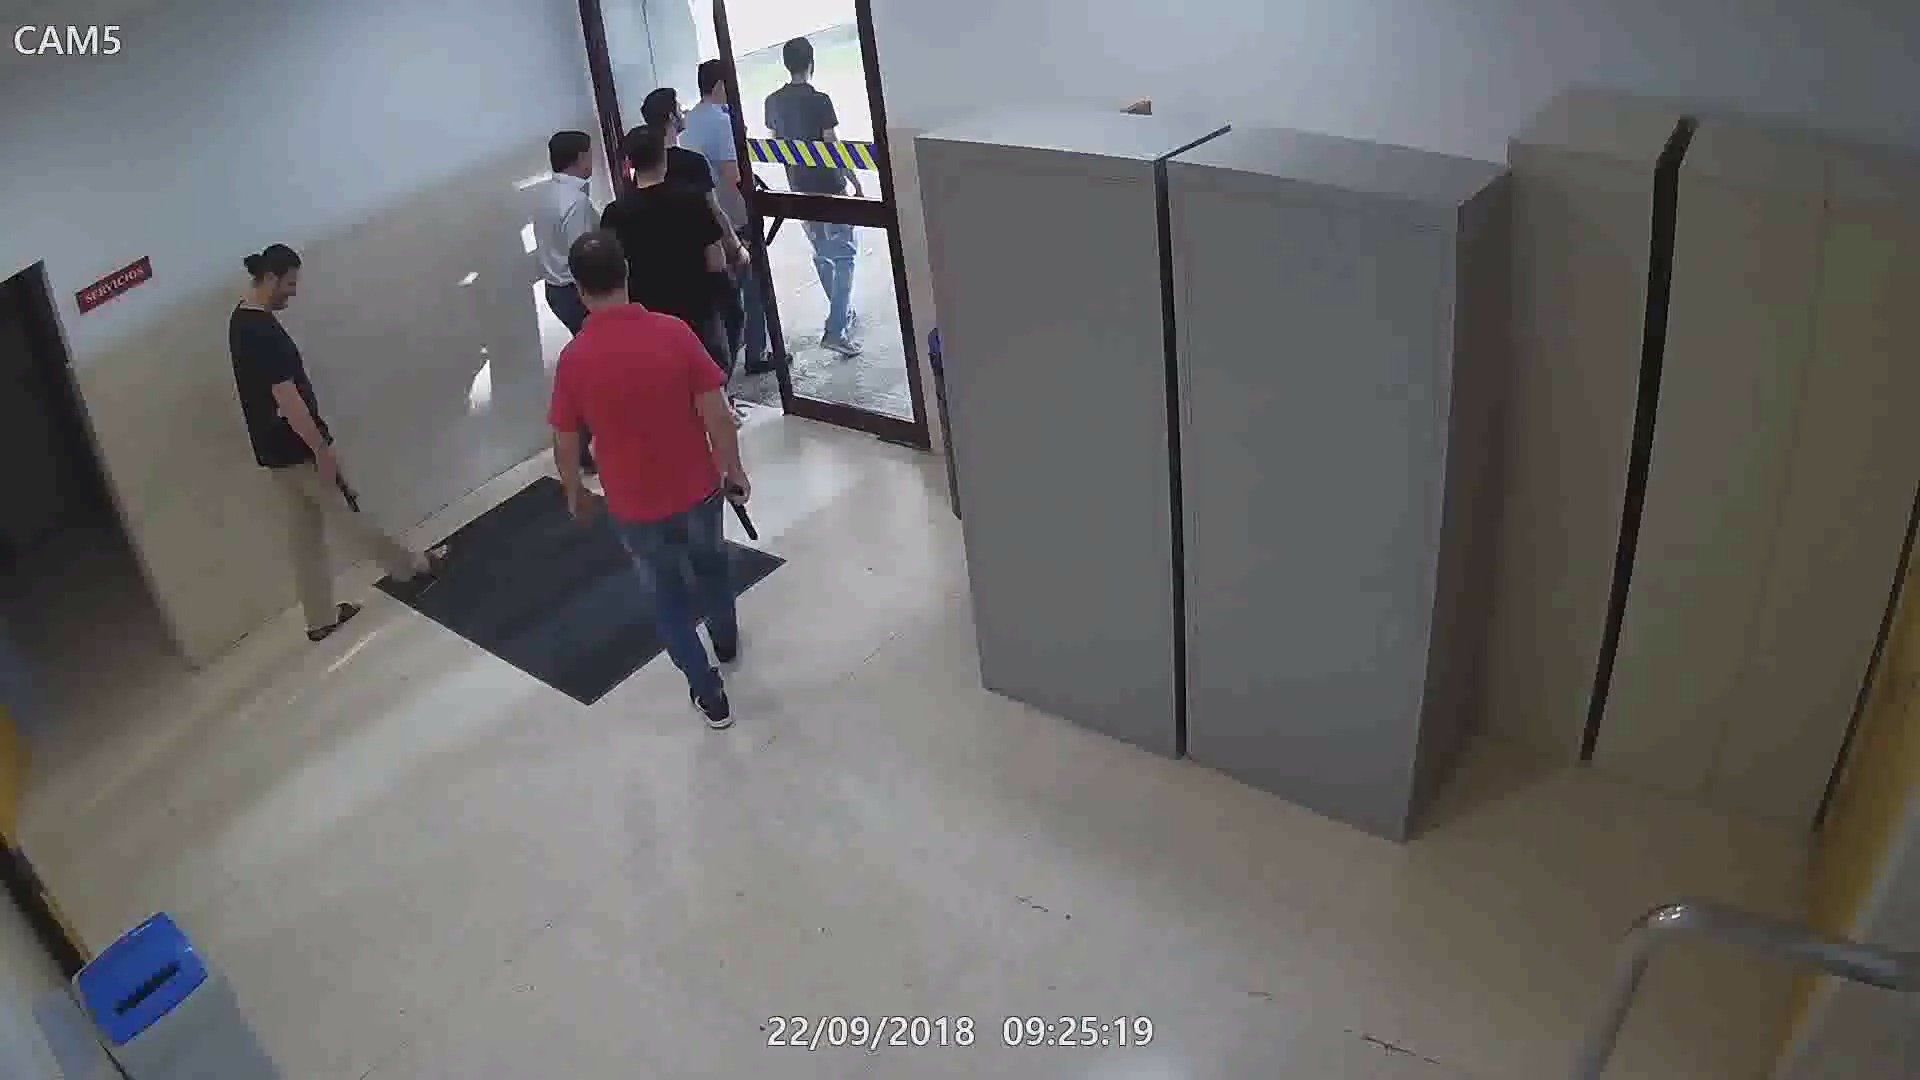Handgun: (717, 467, 766, 545)
Short_rifle: (316, 440, 367, 516)
